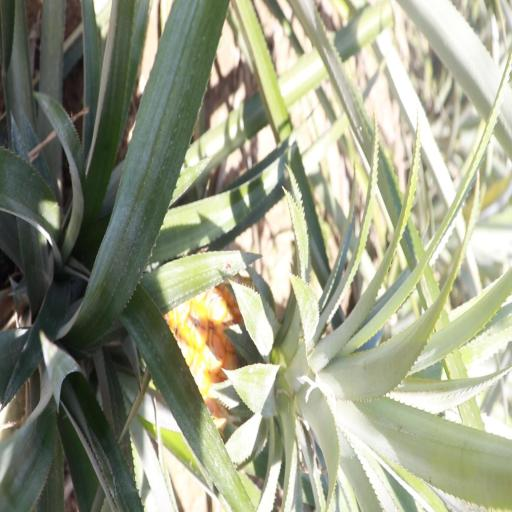Pineapple - v8 v1: (165, 246, 373, 449)
